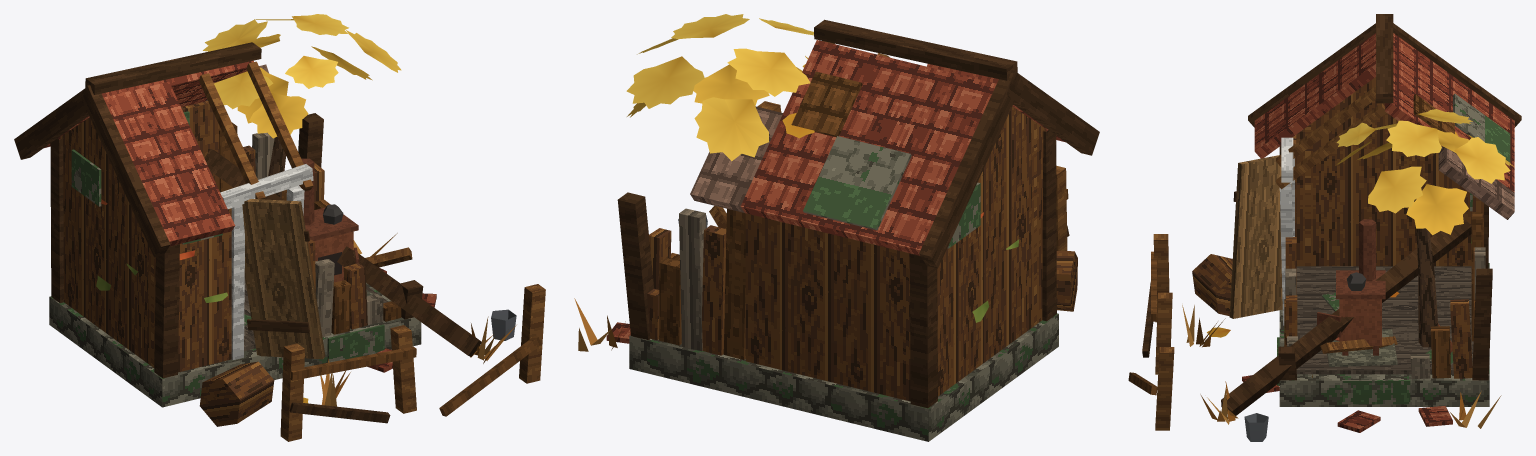
The model's file is abandoned_cabin.glb.
3 renders of one model, left to right at view 1: azimuth 30°, elevation 25°; view 2: azimuth 150°, elevation 25°; view 3: azimuth 270°, elevation 25°, orthographic. The views are drawn at different scales.
Parts seen in each view (by area): view 1: abandoned_cabin, sway_crown; view 2: abandoned_cabin, sway_crown; view 3: abandoned_cabin, sway_crown.
Part boxes in pixels (x1,y1,x2,y2): abandoned_cabin: [14, 42, 545, 441]; sway_crown: [203, 14, 401, 138]; abandoned_cabin: [574, 19, 1099, 441]; sway_crown: [626, 14, 813, 161]; abandoned_cabin: [1128, 14, 1521, 441]; sway_crown: [1336, 109, 1513, 235].
Bounding box in the file's own units: 4.48 × 3.47 × 4.6.
25 materials, 18 textured.
